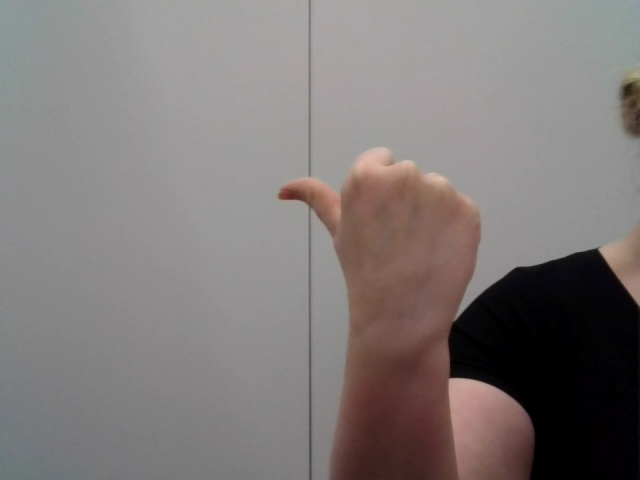right: (257, 131, 520, 374)
